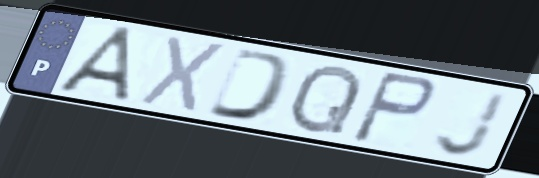A: (51, 23, 139, 107)
D: (201, 44, 298, 125)
J: (431, 89, 513, 159)
P: (347, 68, 440, 147)
Q: (285, 62, 366, 137)
X: (134, 33, 231, 117)
